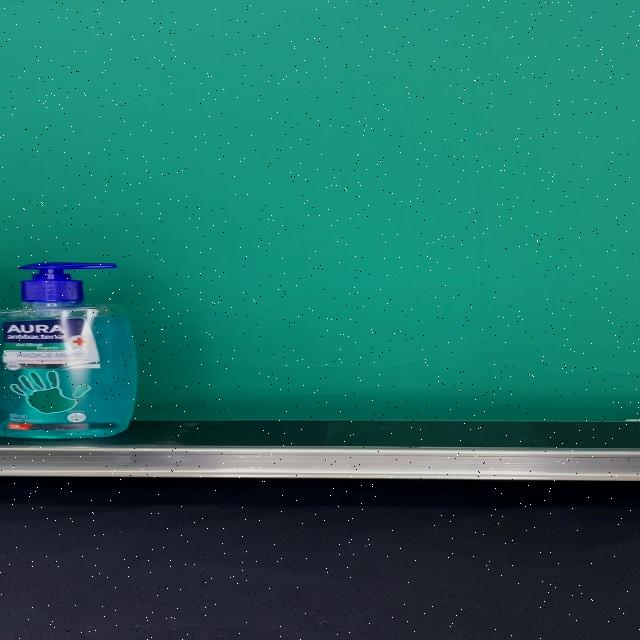Bottle: (0, 262, 137, 438)
Cap: (17, 262, 116, 302)
